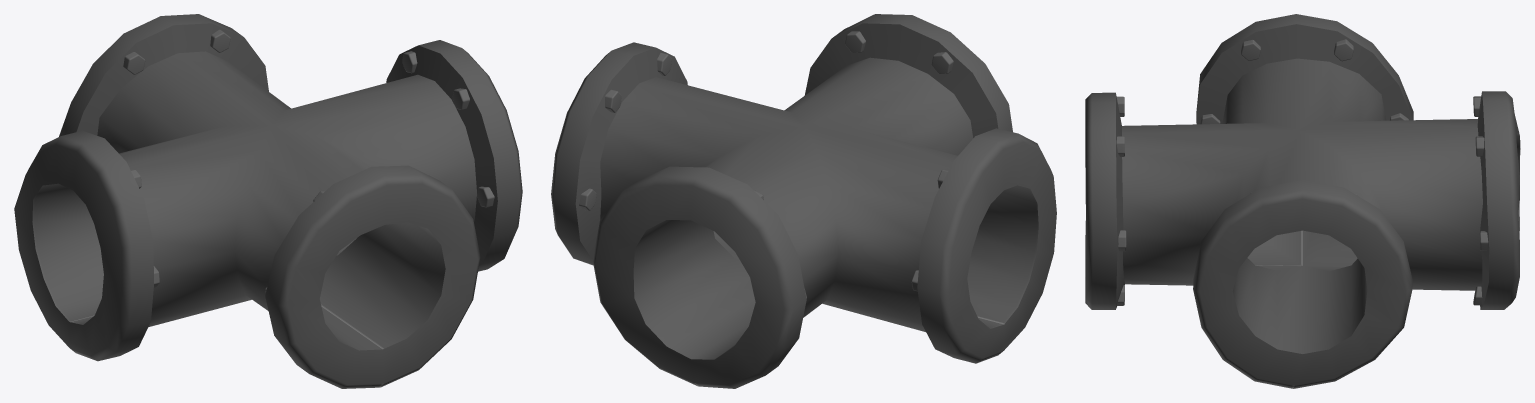
The model's file is SM_tuyau_plus_low.fbx.
3 renders of one model, left to right at view 1: azimuth 30°, elevation 25°; view 2: azimuth 150°, elevation 25°; view 3: azimuth 270°, elevation 25°, orthographic. The views are drawn at different scales.
Parts seen in each view (by area): view 1: SM_tuyau_plus_low; view 2: SM_tuyau_plus_low; view 3: SM_tuyau_plus_low.
Part boxes in pixels (left/top/right/bottom): SM_tuyau_plus_low: left=14, top=14, right=522, bottom=388; SM_tuyau_plus_low: left=551, top=14, right=1056, bottom=388; SM_tuyau_plus_low: left=1085, top=14, right=1520, bottom=388.
Bounding box in the file's own units: 0.5262 × 0.2644 × 0.5244.
Materials: 1 (1 with a texture image).
